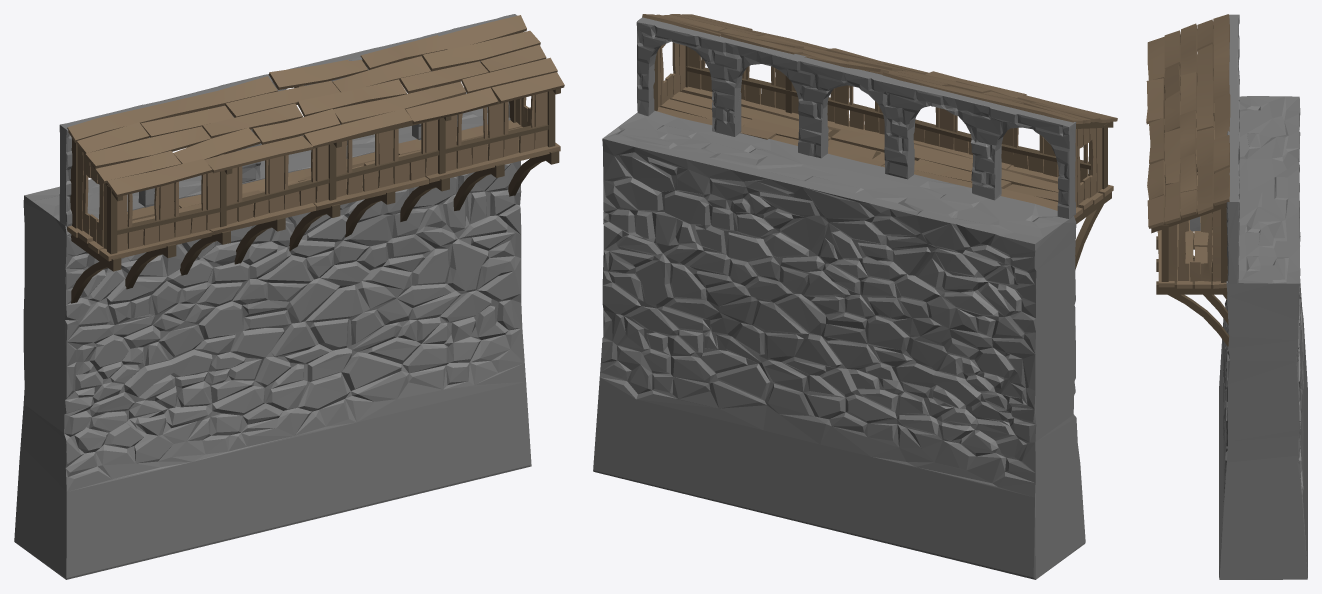
Rendered from castle_battlement_b2.FBX.
The picture shows the model from 3 angles, left to right: view 1: azimuth 30°, elevation 25°; view 2: azimuth 150°, elevation 25°; view 3: azimuth 270°, elevation 25°; orthographic projection. The views are drawn at different scales.
Parts seen in each view (by area): view 1: castle_battlement_b2; view 2: castle_battlement_b2; view 3: castle_battlement_b2.
Boxes of the visible parts, bbox=[...] form: castle_battlement_b2: bbox=[14, 14, 564, 579]; castle_battlement_b2: bbox=[593, 14, 1117, 579]; castle_battlement_b2: bbox=[1146, 14, 1307, 579].
Size of the model in its own units: 15.34 by 14.25 by 5.47.
